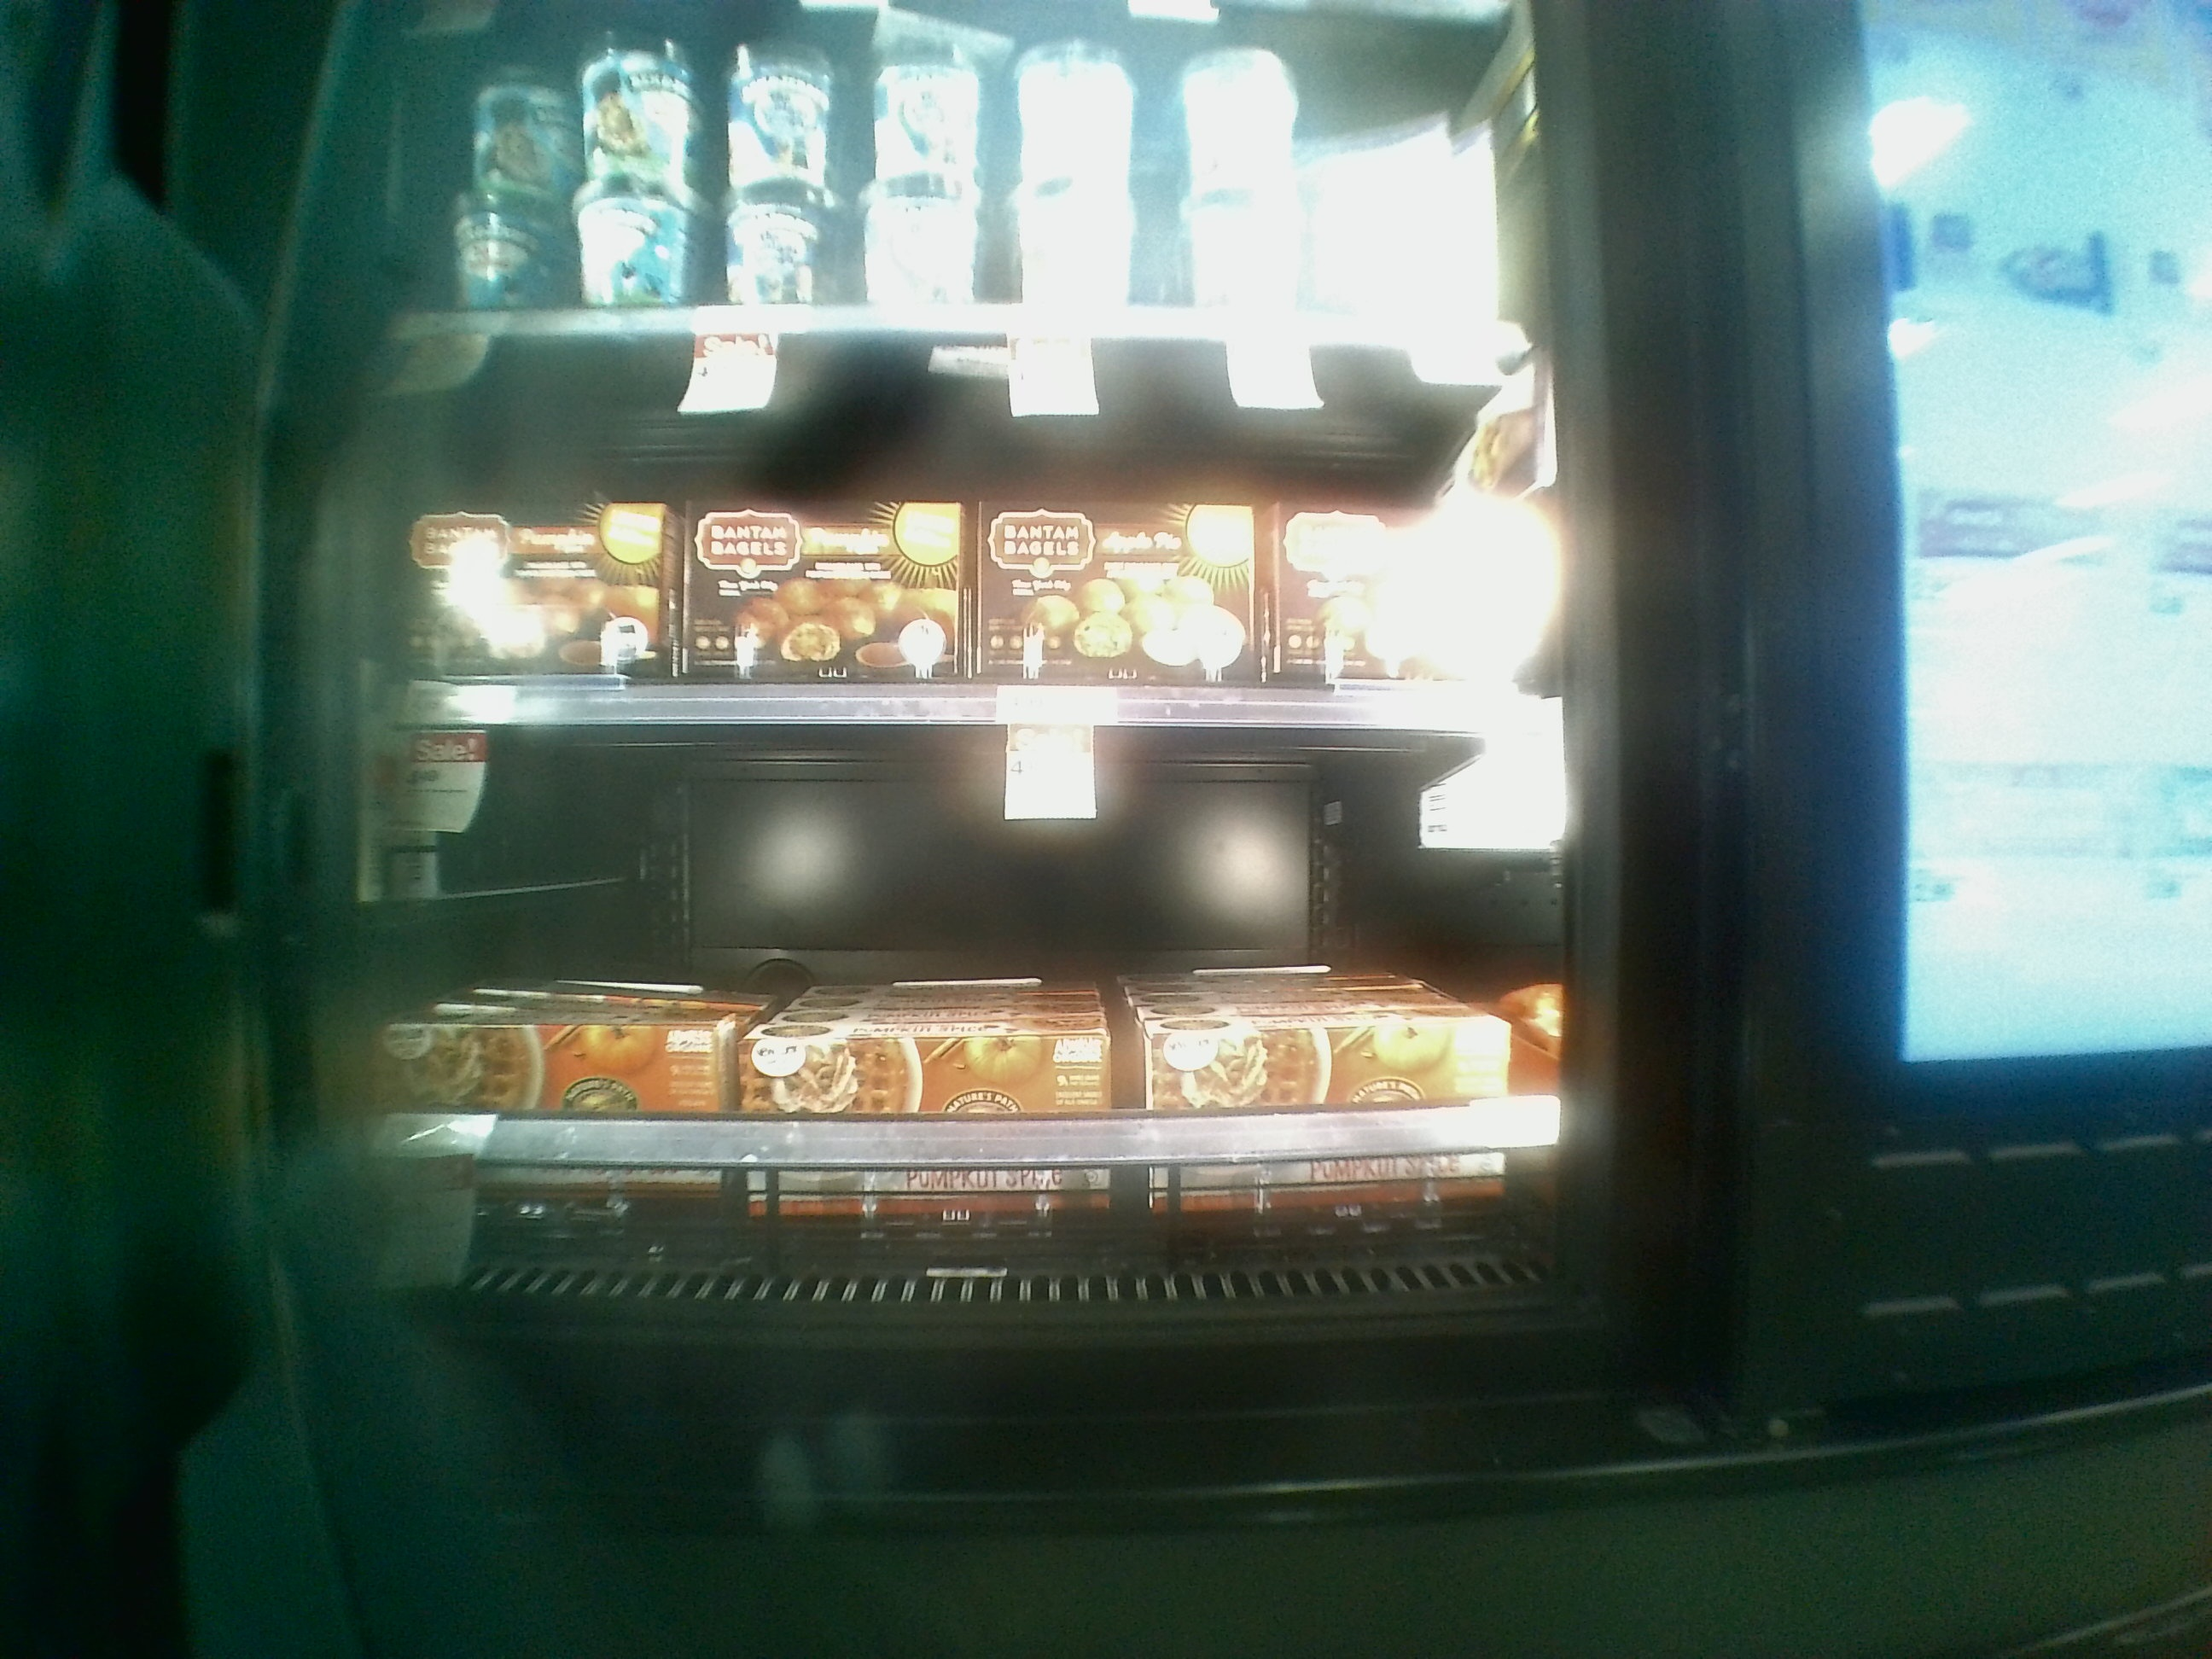shelf: (329, 713, 1608, 1342), (355, 310, 1583, 735)
